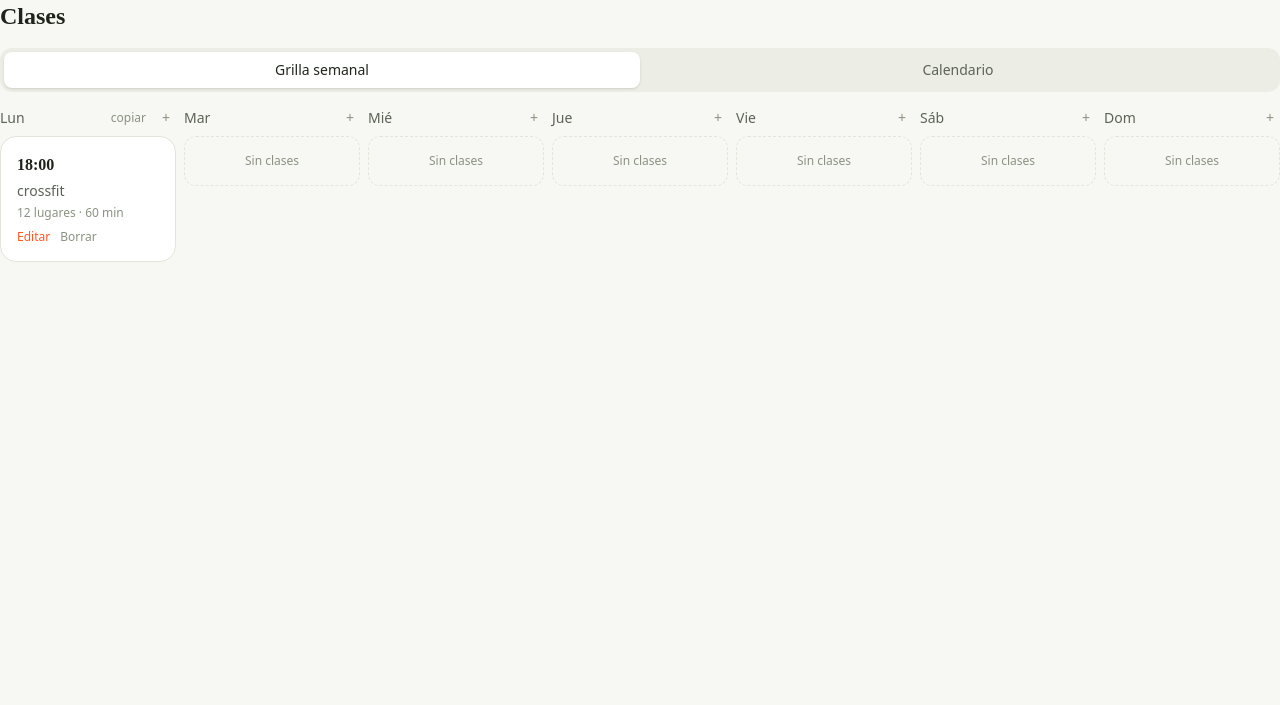
Test: Classes — calendario (F3-06) › bajar el cupo por debajo de los anotados se explica en el campo
Click the button "Calendario" at (958, 70), box left=640, top=52, right=1276, bottom=88
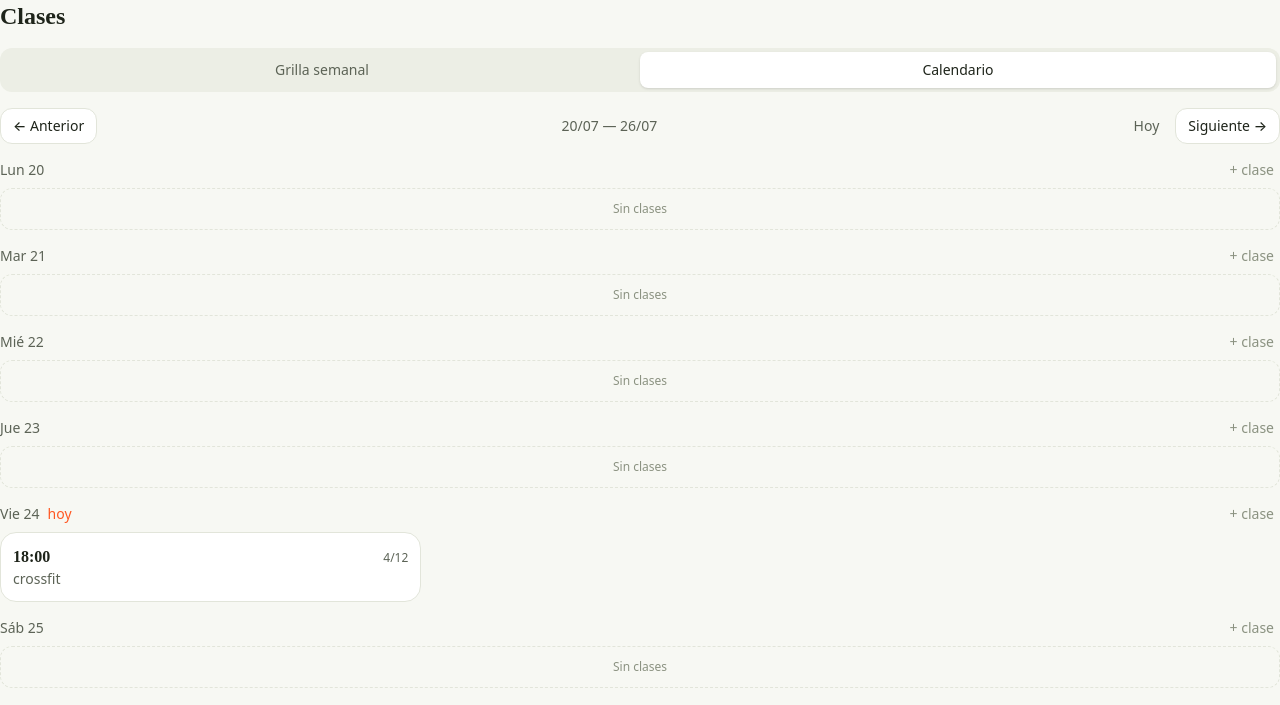
Click the text "18:00" at (32, 557), box left=13, top=545, right=50, bottom=569
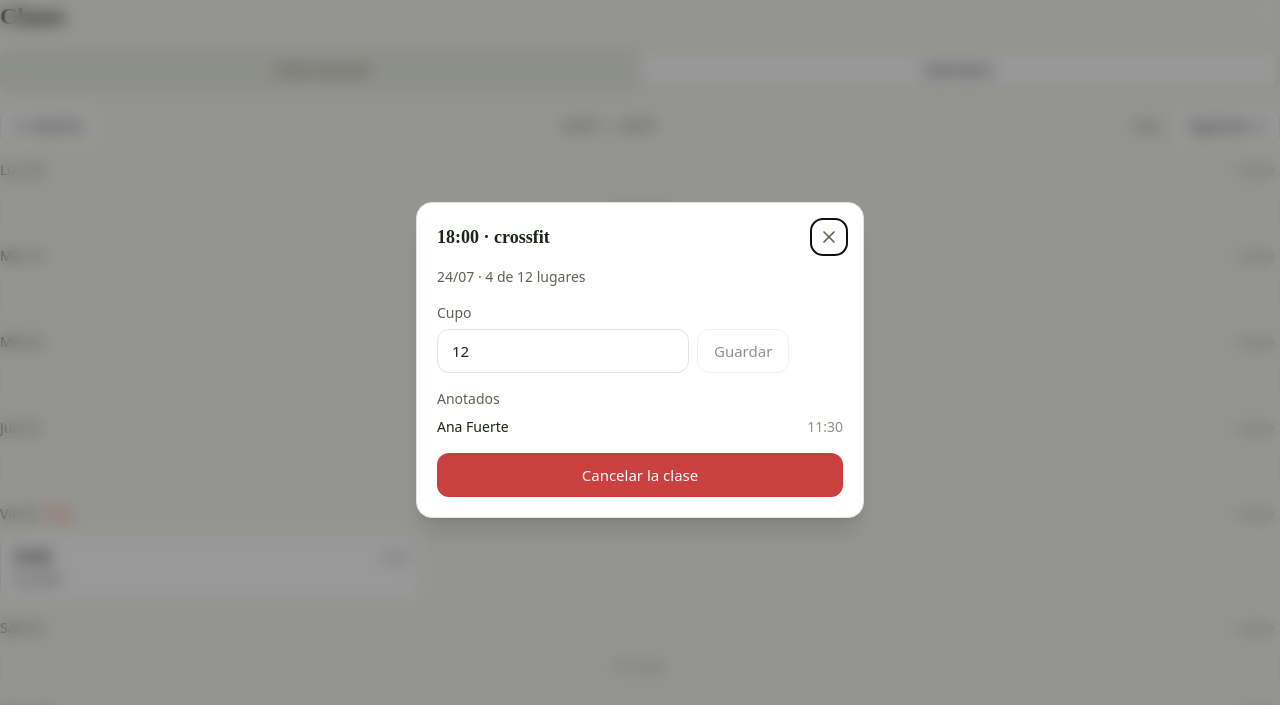
Replace the text in the number field labelled "Cupo" with "2" at (563, 351), box left=437, top=329, right=689, bottom=373
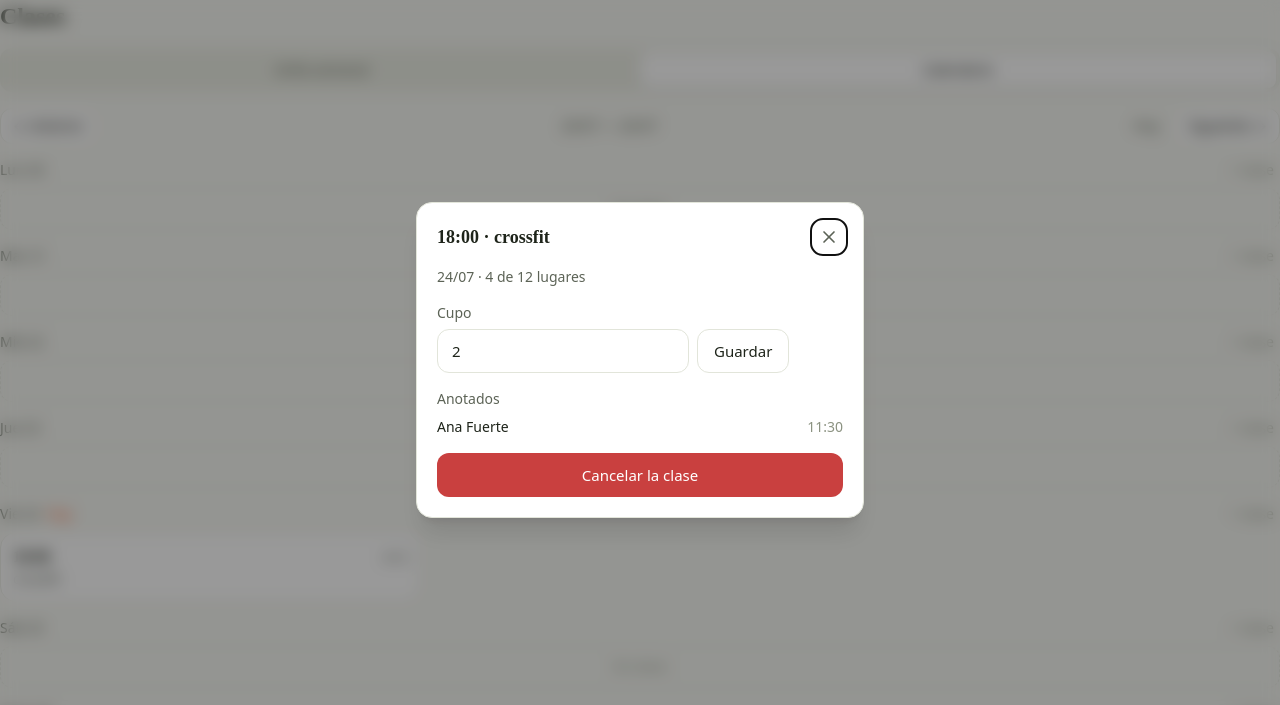
Click the button "Guardar" at (743, 351), box left=697, top=329, right=789, bottom=373
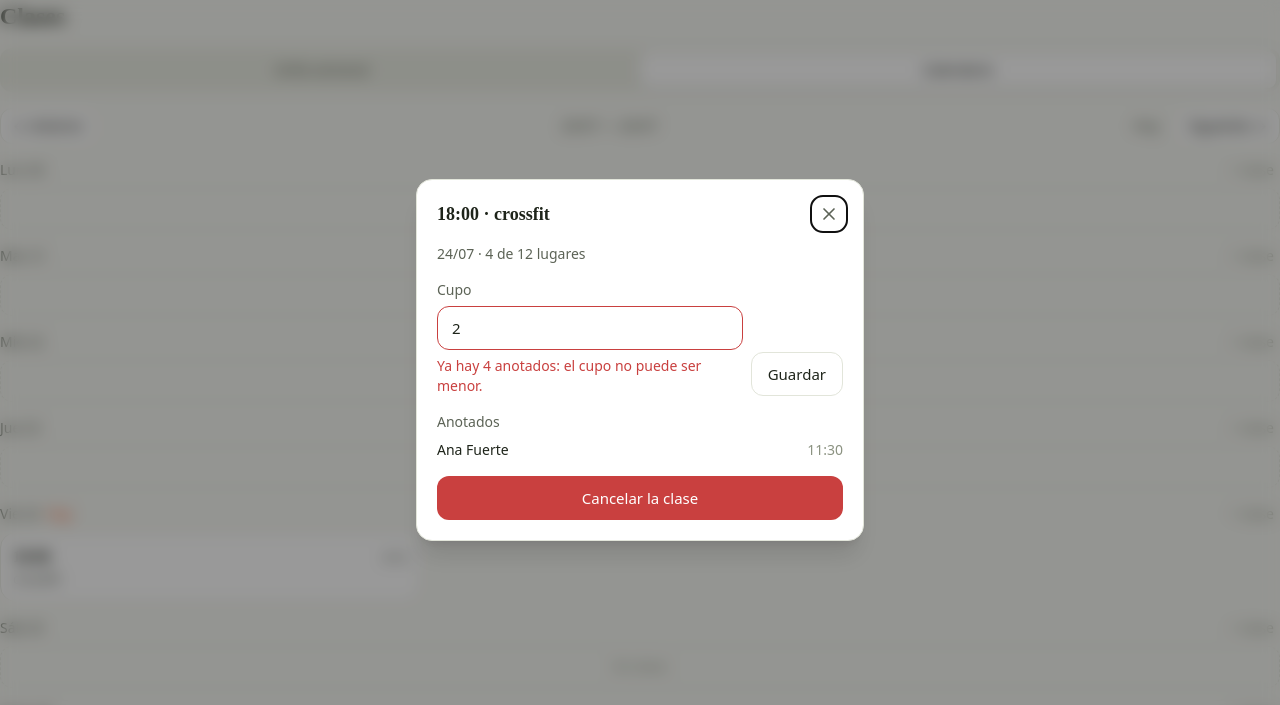
Now the text "Ya hay 4 anotados: el cupo no puede ser menor." is shown, box left=437, top=356, right=743, bottom=396
